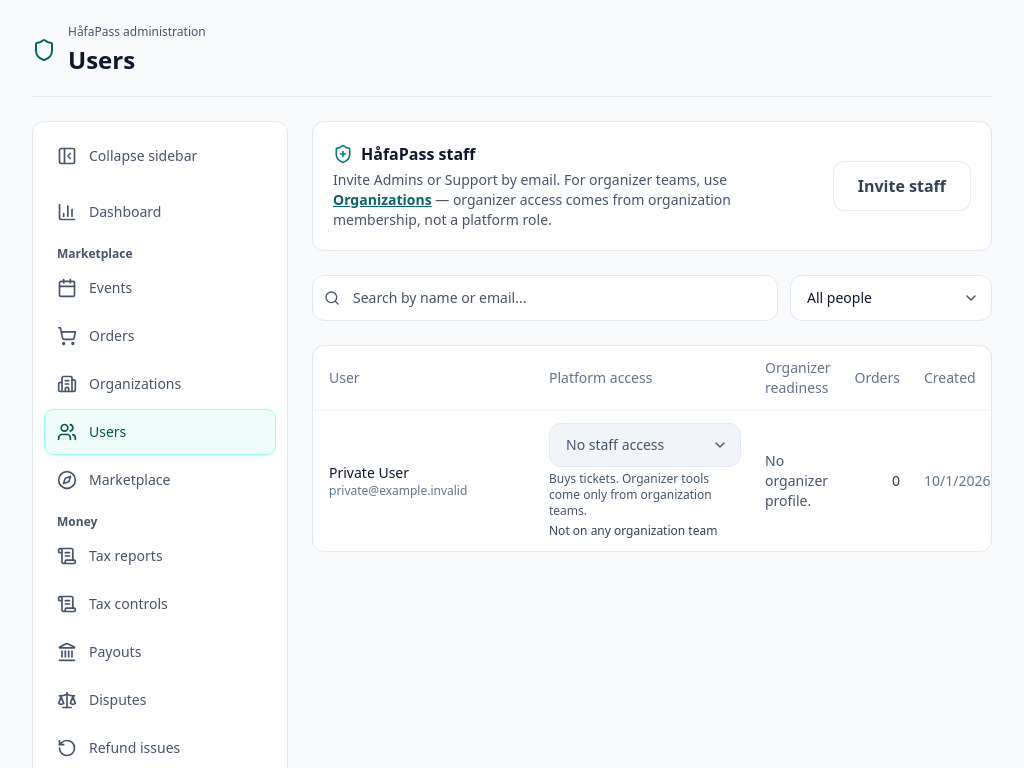
Scenario: administrator role withdrawal and authoritative recovery › retains authorized user data for an ordinary business/network rejection 403
Select "organizer" in the dropdown named "Role for private@example.invalid": (645,445) [549,423,741,467]
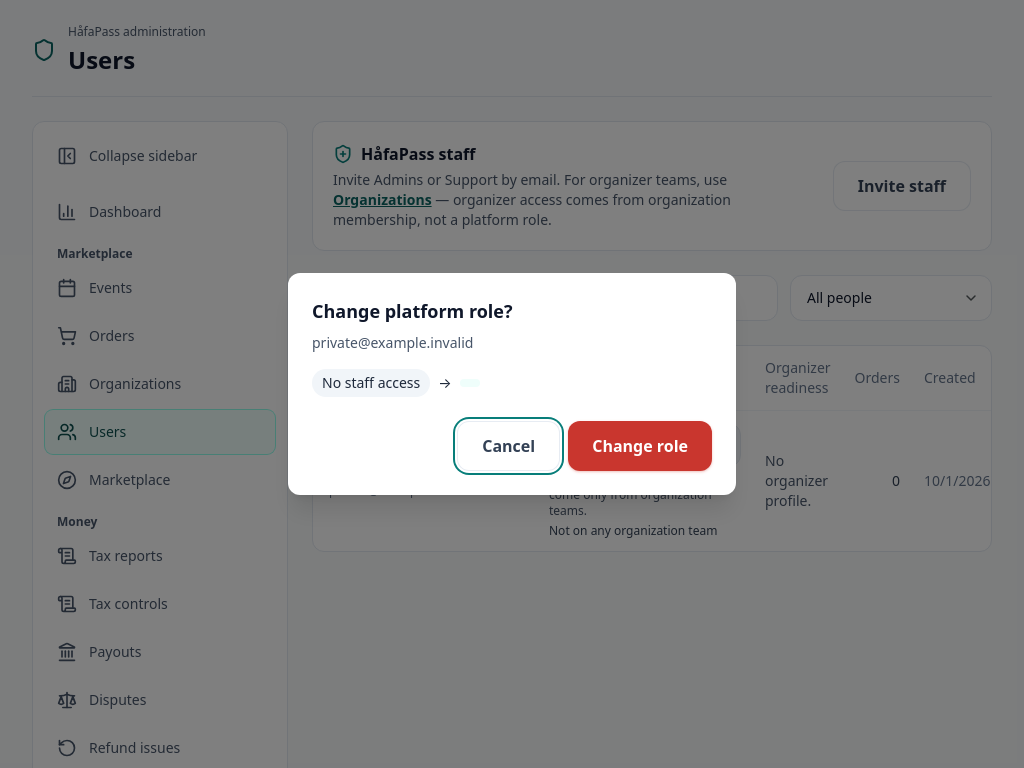
Click the button "Change role": (640,446) [568,421,712,471]
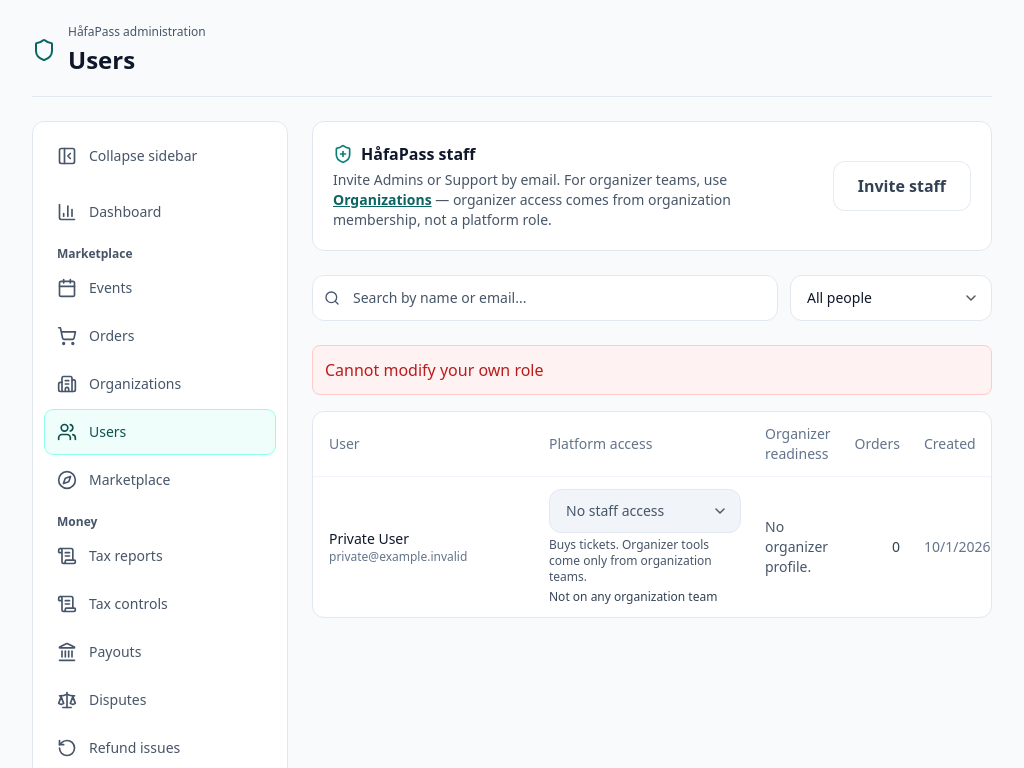
Expected: the text "private@example.invalid" is shown, [329,548,467,565]
Expected: the message "Cannot modify your own role" is shown, [312,345,992,395]
